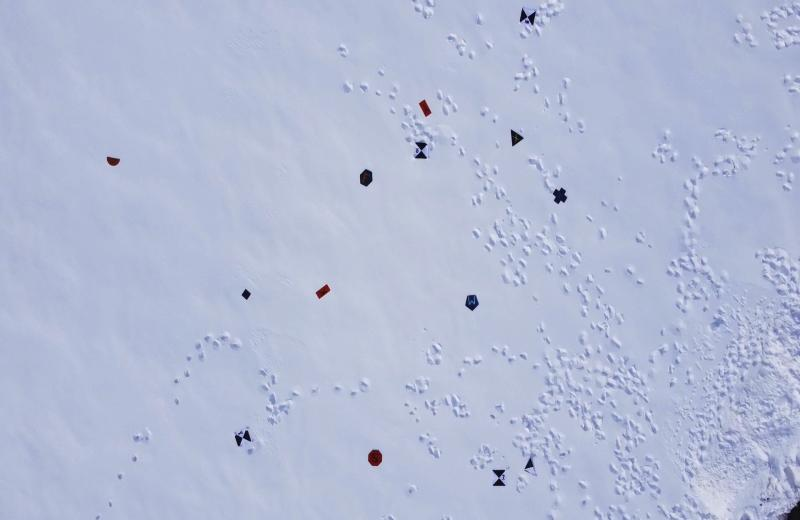Cross: (553, 186, 568, 204)
Hexagon: (358, 167, 374, 188)
Octagon: (368, 448, 383, 466)
Pentagon: (465, 293, 480, 312)
Rectangle: (418, 99, 432, 119), (316, 284, 331, 299)
Semi Circle: (105, 156, 121, 168)
Square: (242, 288, 251, 301)
Triangle: (510, 126, 524, 147)
